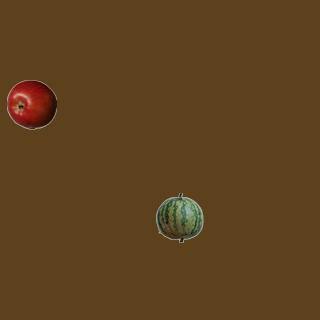Apple Braeburn: (6, 79, 56, 129)
Watermelon: (154, 192, 204, 242)
